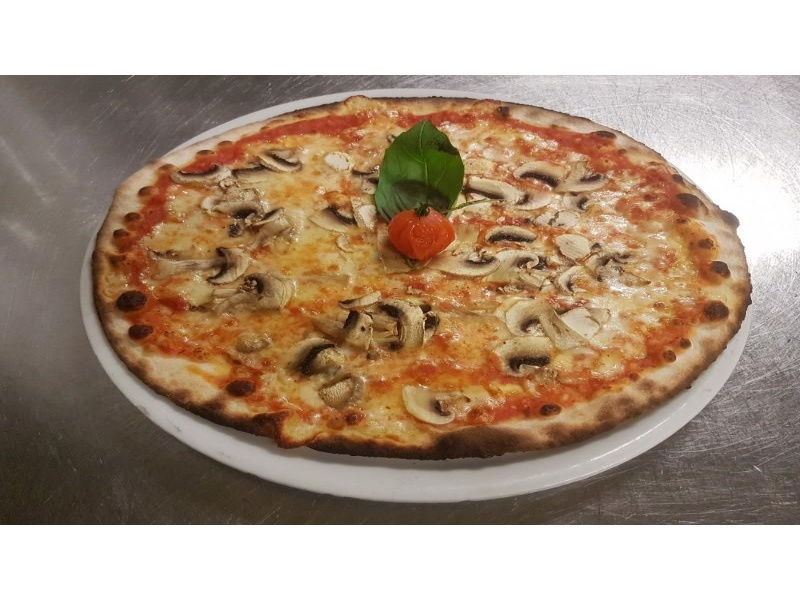champignon: (501, 289, 597, 358), (153, 244, 248, 289), (378, 292, 434, 354), (398, 380, 467, 430), (438, 239, 507, 282), (243, 266, 297, 313), (509, 158, 572, 191)
